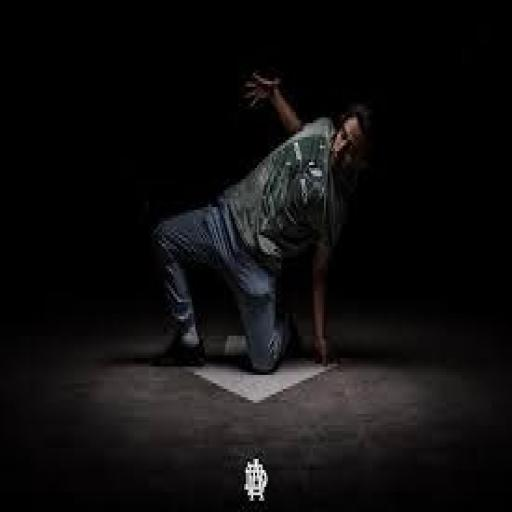dancing: (147, 64, 380, 375)
